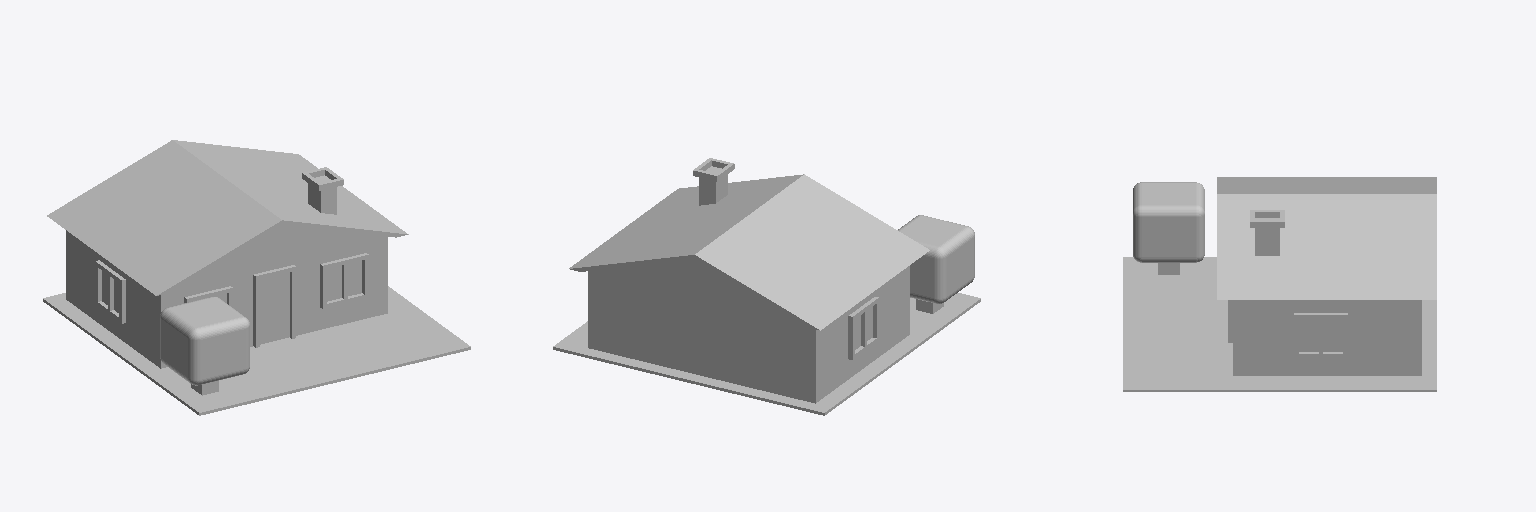
File: house1.obj
The picture shows the model from 3 angles: view 1: azimuth 30°, elevation 25°; view 2: azimuth 150°, elevation 25°; view 3: azimuth 270°, elevation 25°; orthographic projection.
Visible parts, largest first — view 1: casa1; view 2: casa1; view 3: casa1.
Boxes of the visible parts, box(x1,y1,x2,y2) form: casa1: box(43, 140, 470, 415); casa1: box(553, 158, 980, 415); casa1: box(1123, 177, 1436, 391).
Bounding box in the file's own units: 1.01 × 0.4895 × 1.